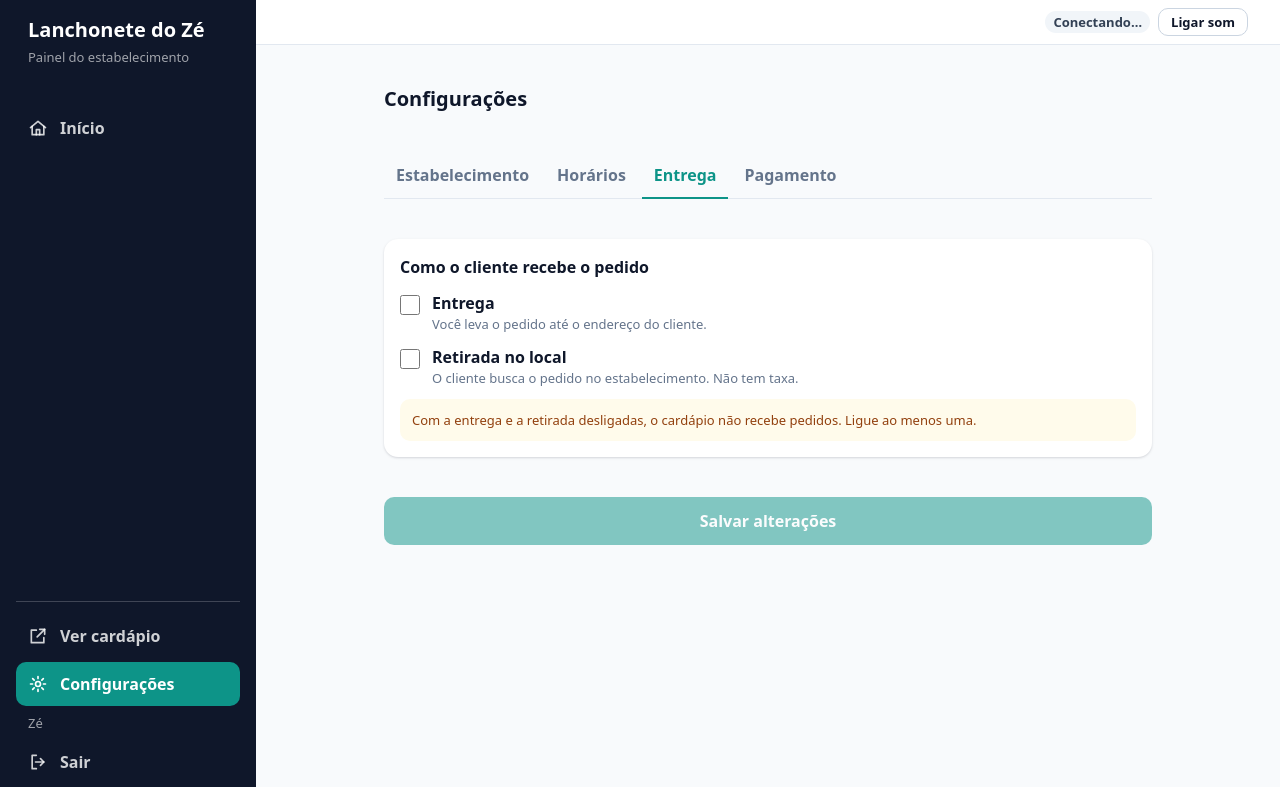
Test: aba de entrega › entrega com taxa fixa: os campos aparecem ao ligar, e a taxa vai em centavos
Click the checkbox labelled "Entrega" at (410, 305), box [400,295,420,315]
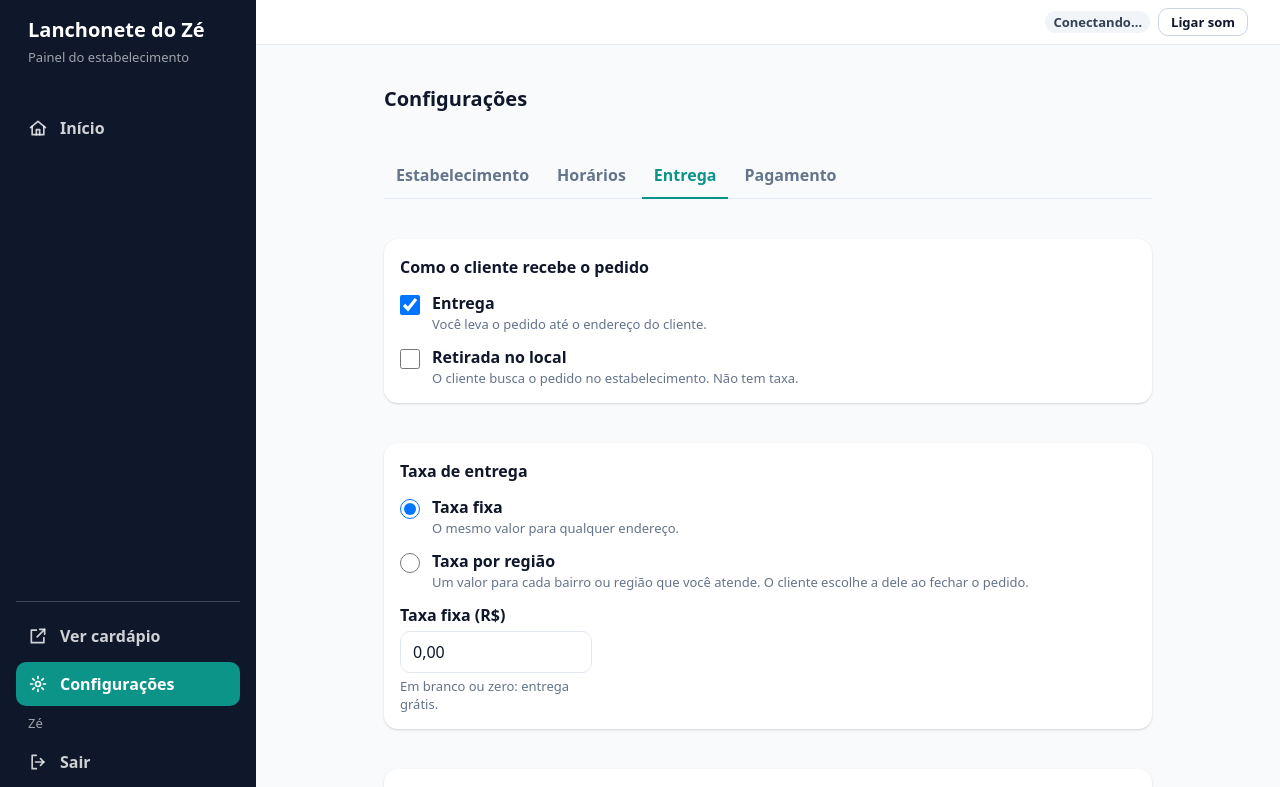
expect the radio button labelled "Taxa fixa" is checked: met, box [400,499,420,519]
Type "7,5" into the field labelled "Taxa fixa (R$)" at (496, 652), box [400,631,592,673]
(page scrolled)
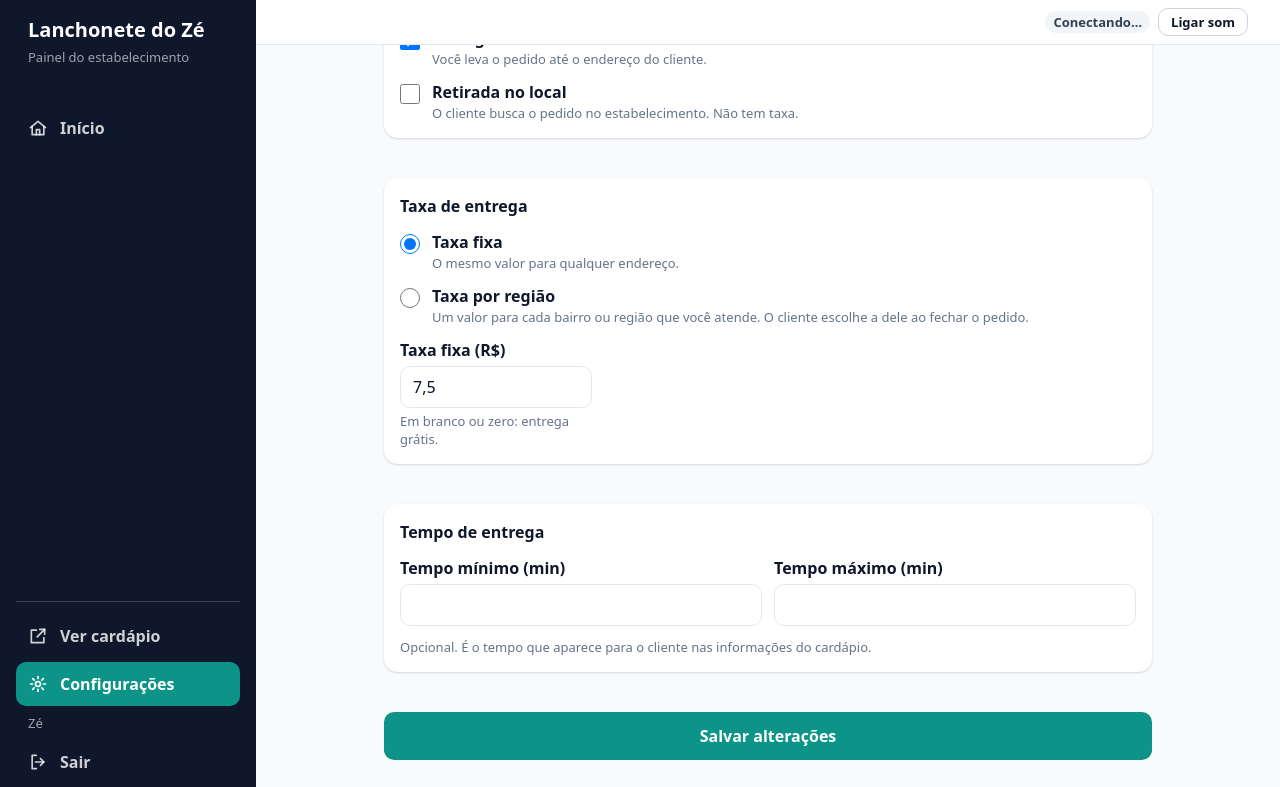
Type "30" into the field labelled "Tempo mínimo (min)" at (581, 605), box [400,584,762,626]
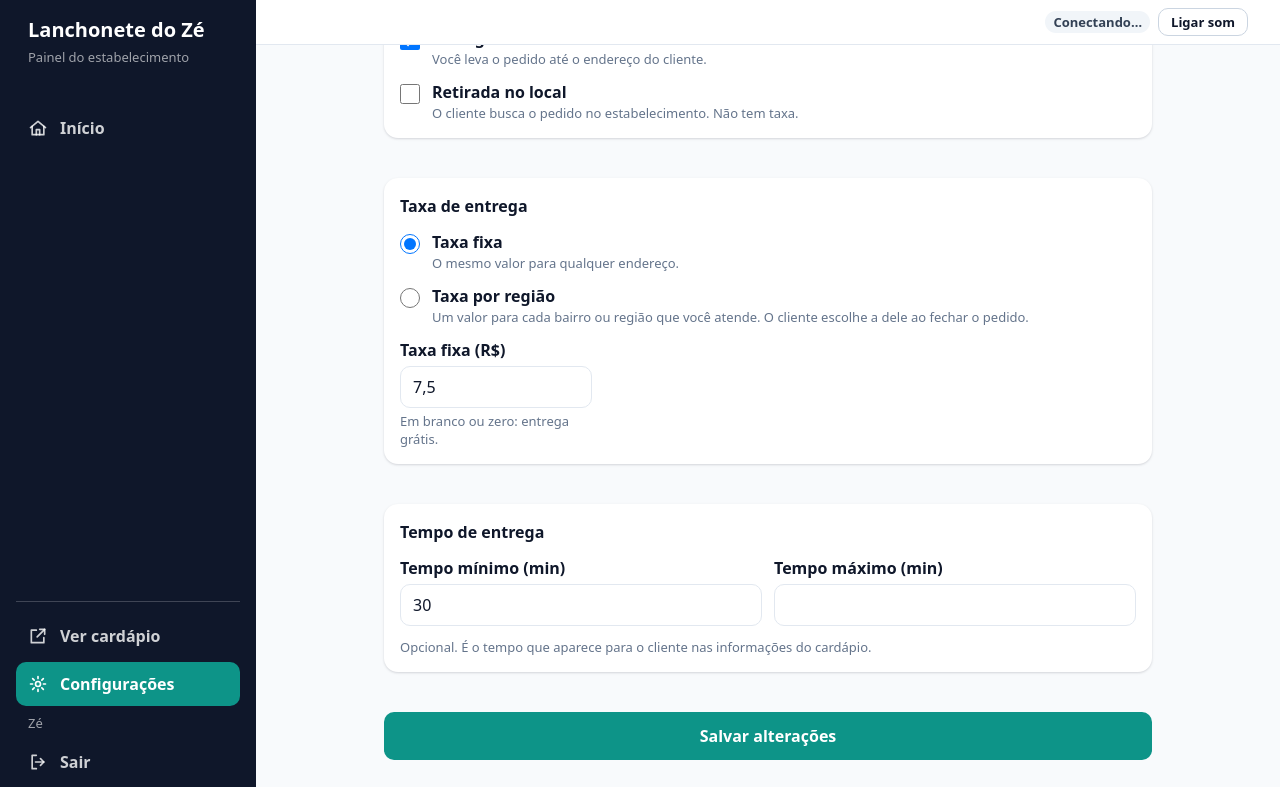
Type "50" into the field labelled "Tempo máximo (min)" at (955, 605), box [774,584,1136,626]
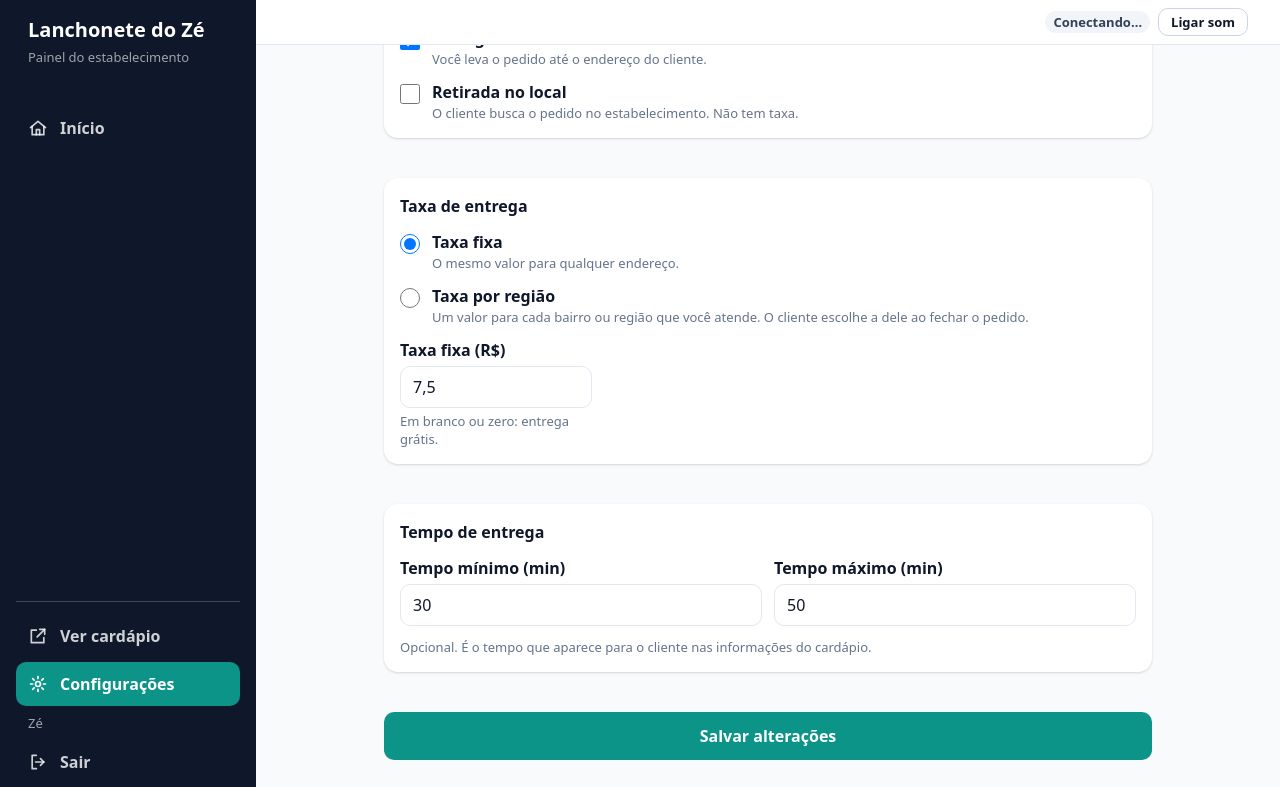
Click the button "Salvar alterações" at (768, 736), box [384,712,1152,760]
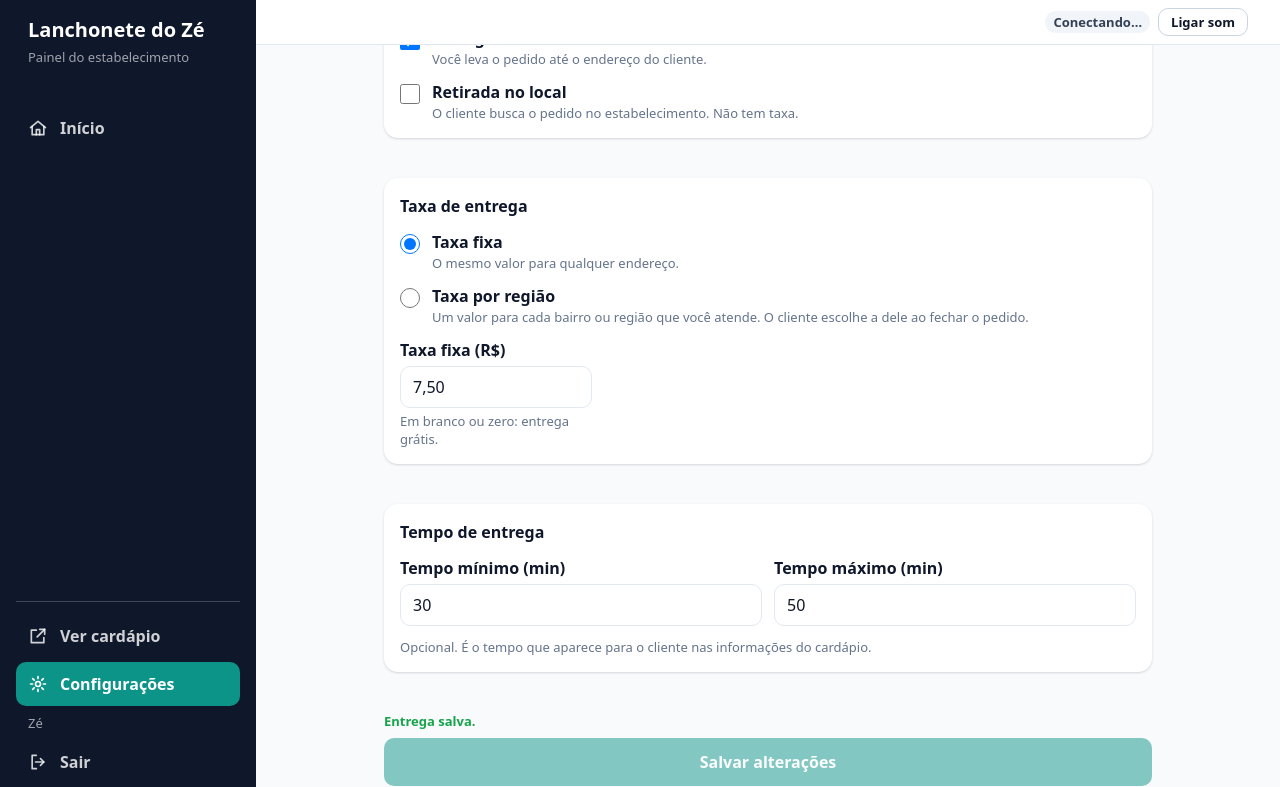
expect the text "Entrega salva." is shown: met, box [384,712,476,730]
expect the field labelled "Taxa fixa (R$)" holds "7,50": met, box [400,366,592,408]
